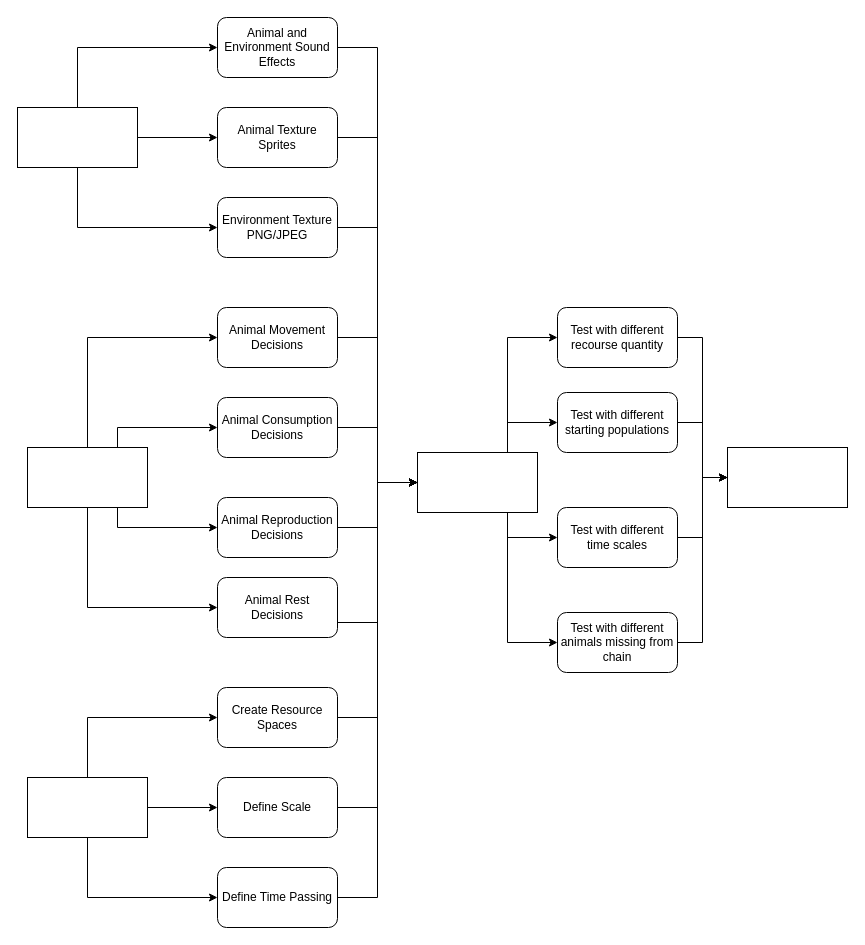
The diagram is 865 pixels wide and 945 high, and some of its shapes have lost their labels. The box of each missing label's shape, as (x1, y1, x2, y2) in pixels:
Animal AI: (26, 446, 148, 508)
Asset Building/Collection: (16, 106, 138, 168)
Map Logic: (26, 776, 148, 838)
Run Simulations: (416, 452, 538, 512)
Write Report: (726, 446, 848, 508)
